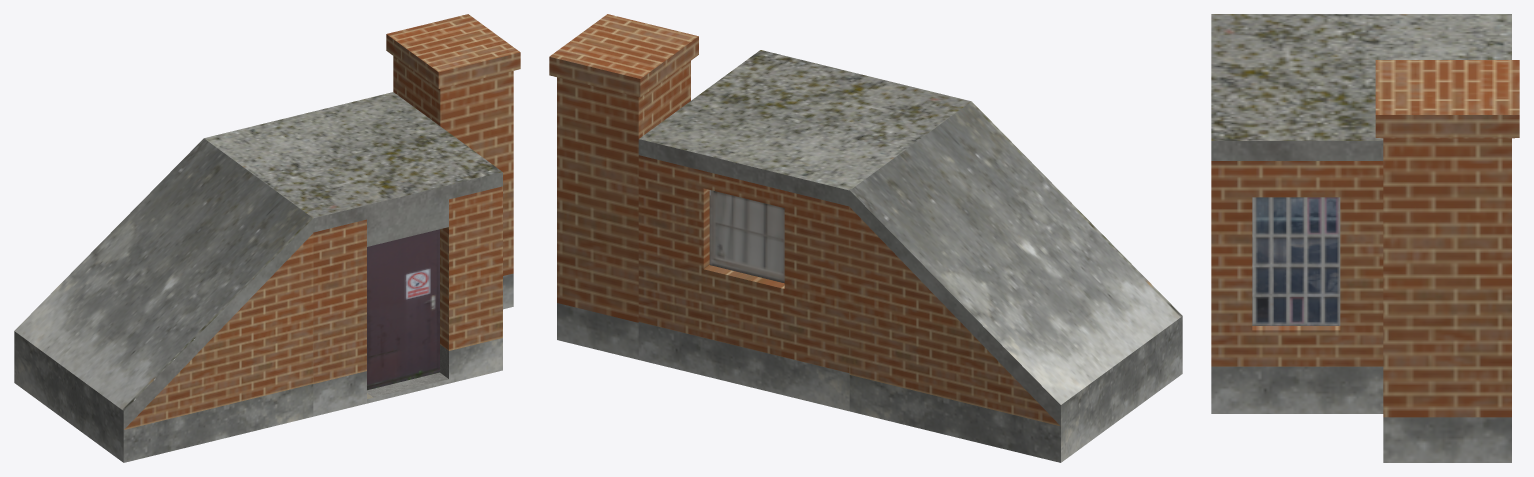
Rendered from building_6.fbx.
The picture shows the model from 3 angles, left to right: view 1: azimuth 30°, elevation 25°; view 2: azimuth 150°, elevation 25°; view 3: azimuth 270°, elevation 25°; orthographic projection. The views are drawn at different scales.
Parts seen in each view (by area): view 1: building_6; view 2: building_6; view 3: building_6.
Part boxes in pixels (left/top/right/bottom): building_6: left=14, top=14, right=520, bottom=462; building_6: left=549, top=14, right=1182, bottom=462; building_6: left=1211, top=14, right=1519, bottom=462.
Bounding box in the file's own units: 795 × 425 × 338.
